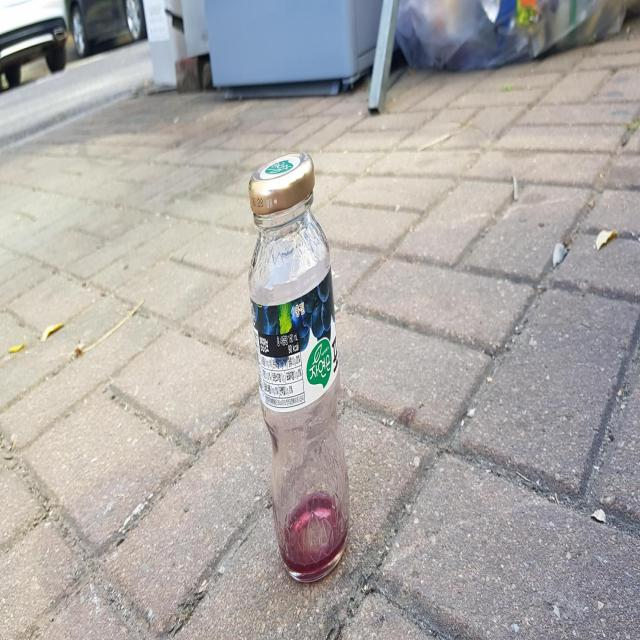glass: (248, 151, 349, 581)
